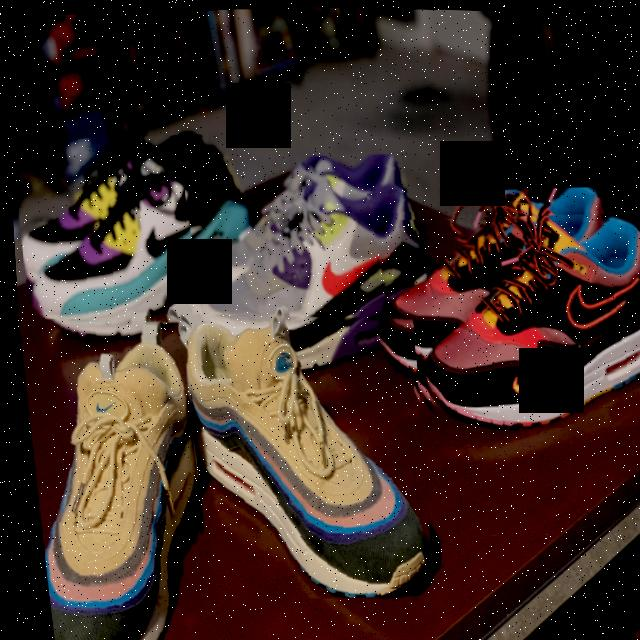shoe: (176, 301, 437, 606), (14, 309, 214, 640), (178, 147, 436, 367), (394, 205, 640, 435), (8, 128, 262, 337), (365, 180, 616, 364)
